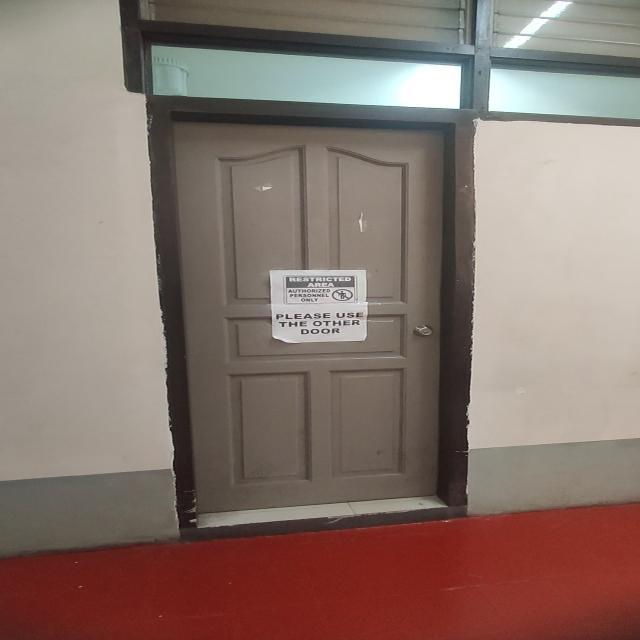door: (146, 98, 467, 548)
